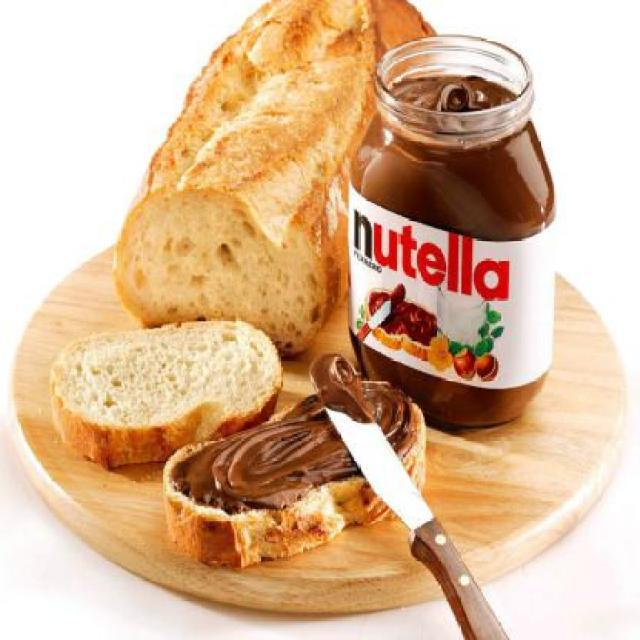Spread: (170, 379, 422, 521)
